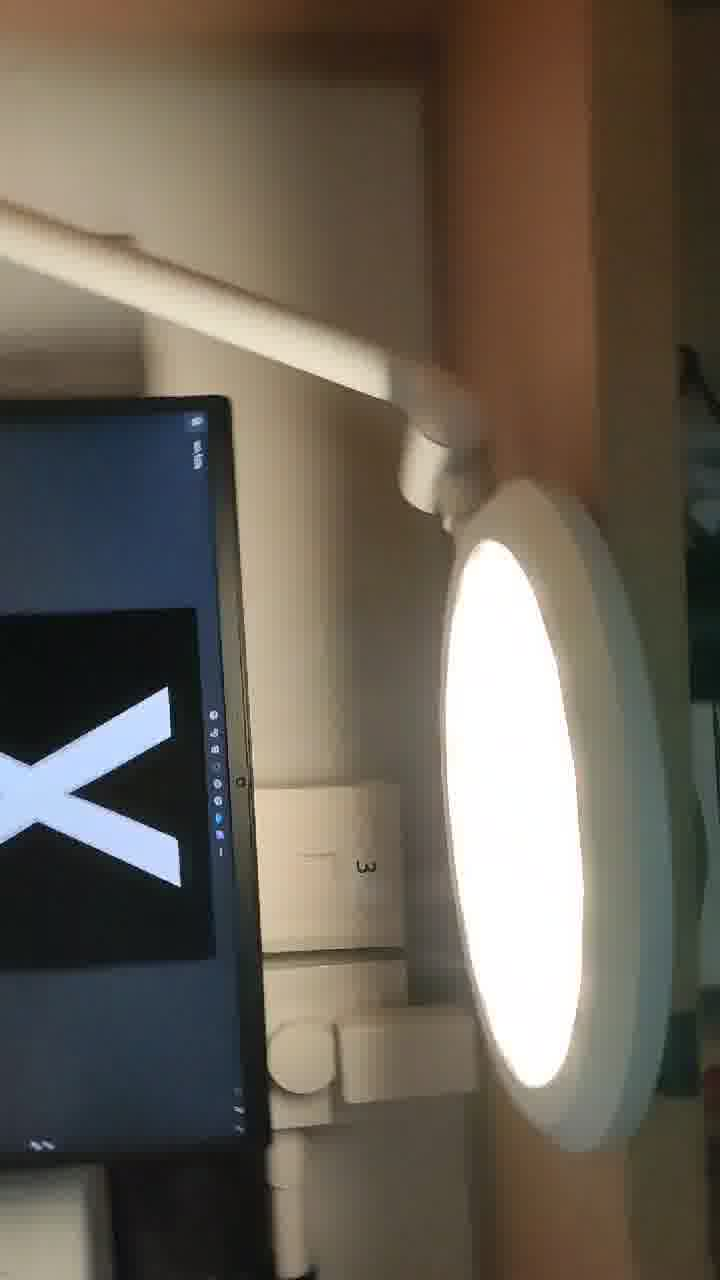X: (1, 642, 284, 942)
